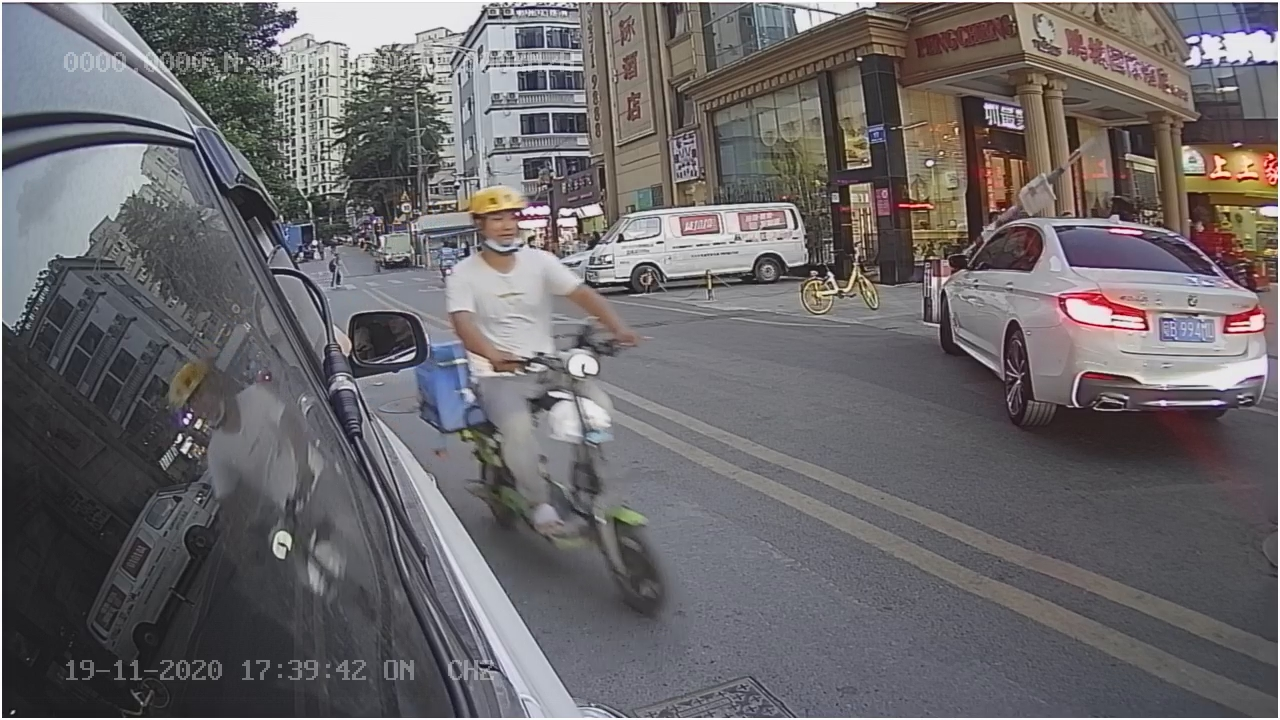person: (445, 191, 563, 349)
